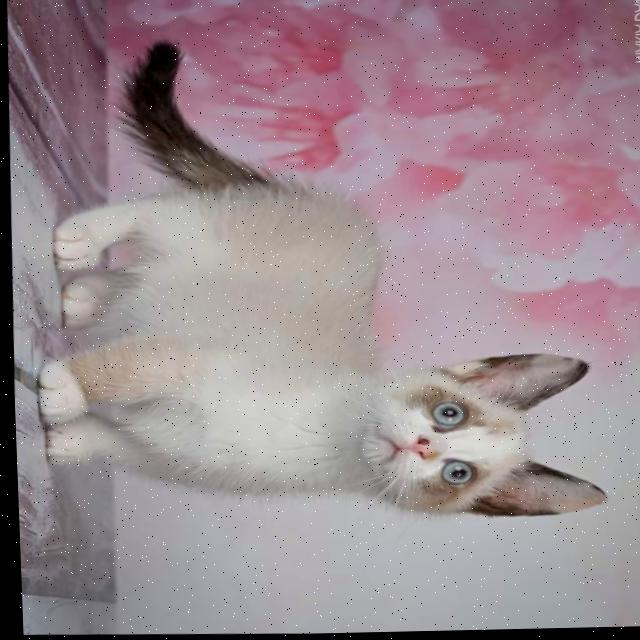Munchkin: (14, 30, 623, 534)
